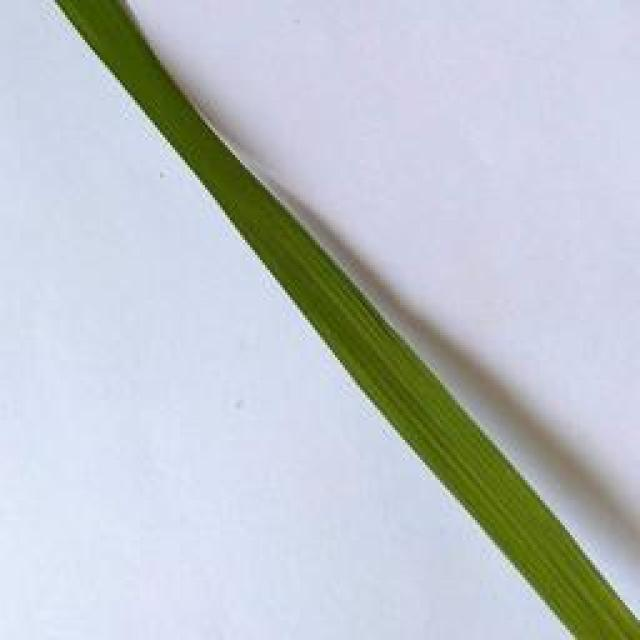Healthy-Plant: (53, 0, 370, 331)
